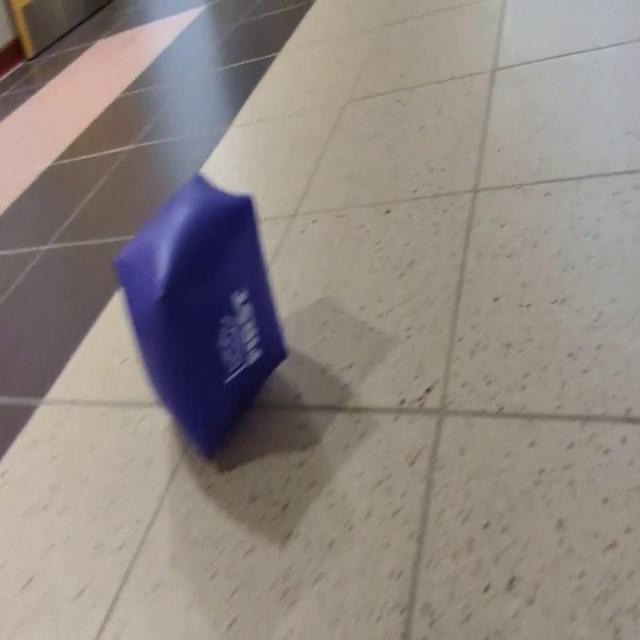frc_cube: (110, 172, 292, 460)
